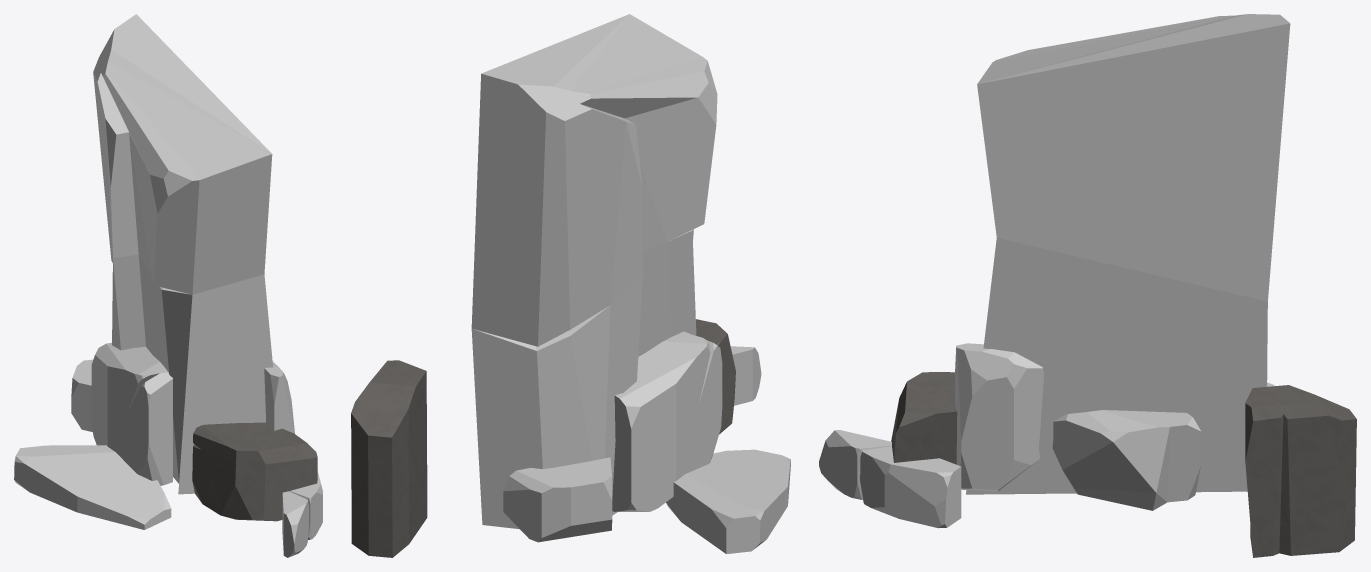
Rendered from Cliff_Asembly_04.fbx.
3 views of the same model, side by side, from view 1: azimuth 30°, elevation 25°; view 2: azimuth 150°, elevation 25°; view 3: azimuth 270°, elevation 25° (orthographic). The views are drawn at different scales.
Visible parts, largest first — view 1: Cliff_Asembly_04; view 2: Cliff_Asembly_04; view 3: Cliff_Asembly_04.
Boxes of the visible parts, left/top/right/bottom form: Cliff_Asembly_04: left=14, top=14, right=322, bottom=557; Cliff_Asembly_04: left=351, top=14, right=790, bottom=557; Cliff_Asembly_04: left=819, top=14, right=1356, bottom=557.
Bounding box in the file's own units: 2545 × 3500 × 3549.
